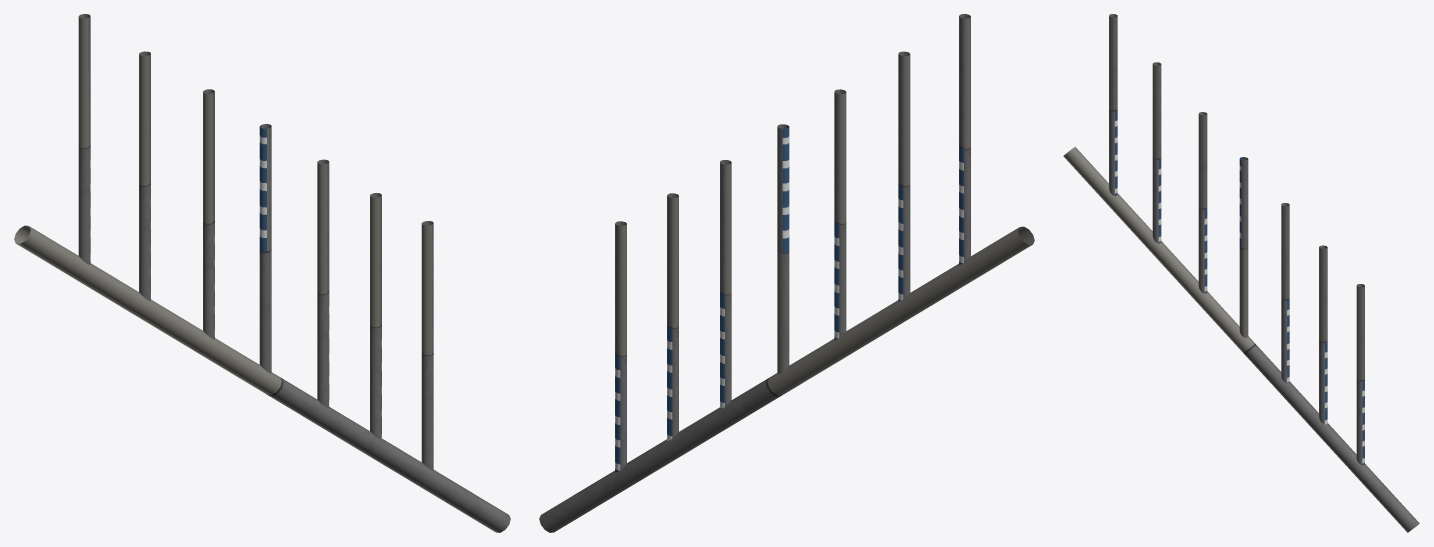
File: stair_stick_05.fbx
The picture shows the model from 3 angles, left to right: view 1: azimuth 30°, elevation 25°; view 2: azimuth 150°, elevation 25°; view 3: azimuth 330°, elevation 25°; orthographic projection. The views are drawn at different scales.
Visible parts, largest first — view 1: Object020; view 2: Object020; view 3: Object020.
Part boxes in pixels (<box>): Object020: <box>14,14,510,532</box>; Object020: <box>539,14,1034,532</box>; Object020: <box>1063,14,1419,532</box>.
Size of the model in its own units: 149 by 178 by 5.62.
